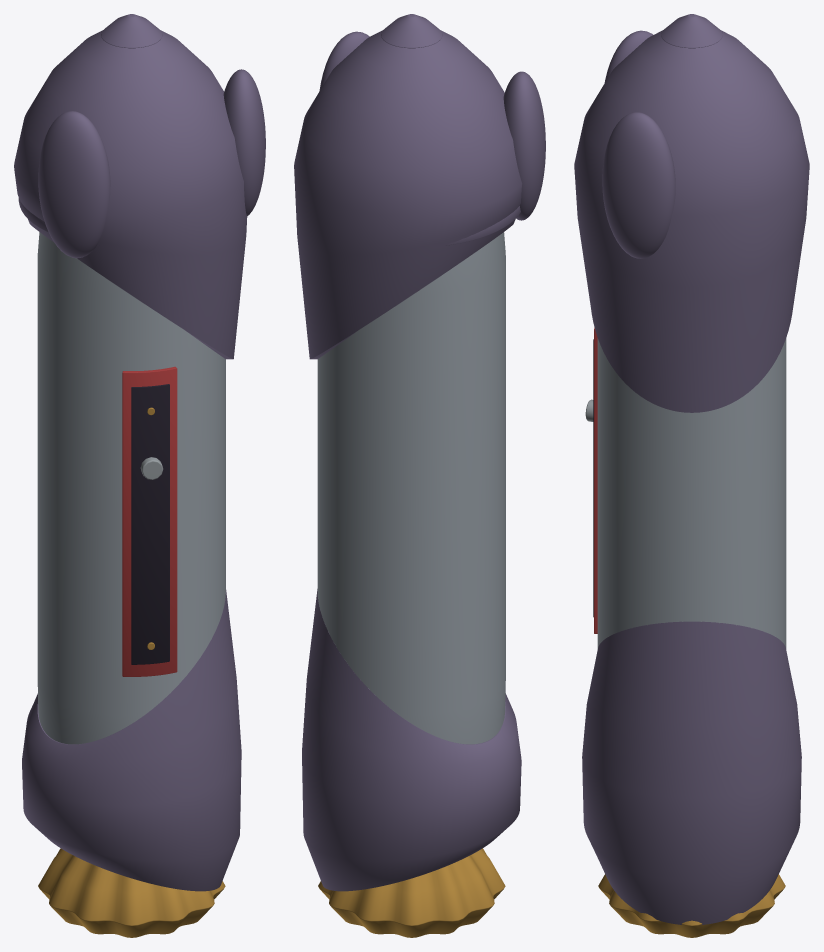
The picture shows the model from 3 angles, left to right: view 1: azimuth 30°, elevation 25°; view 2: azimuth 150°, elevation 25°; view 3: azimuth 270°, elevation 25°; orthographic projection.
Visible parts, largest first — view 1: Vortex silver pressure shaft, Vortex thick wavy upper casing, Vortex thick wavy lower casing, Vortex dark service inset, Vortex hollow gold propulsion bell, Vortex oval head side form, Vortex curved red service surround, Vortex oval head side form.001, Vortex rounded nose closure; view 2: Vortex silver pressure shaft, Vortex thick wavy upper casing, Vortex thick wavy lower casing, Vortex hollow gold propulsion bell, Vortex oval head side form, Vortex rounded nose closure, Vortex oval head side form.001; view 3: Vortex thick wavy upper casing, Vortex thick wavy lower casing, Vortex silver pressure shaft, Vortex oval head side form.001, Vortex hollow gold propulsion bell, Vortex rounded nose closure, Vortex curved red service surround, Vortex oval head side form.
Boxes of the visible parts, x1,y1,x2,y2 form: Vortex silver pressure shaft: [37, 232, 225, 744]; Vortex thick wavy upper casing: [14, 30, 247, 359]; Vortex thick wavy lower casing: [22, 590, 241, 891]; Vortex dark service inset: [131, 384, 169, 664]; Vortex hollow gold propulsion bell: [38, 848, 225, 937]; Vortex oval head side form: [38, 111, 110, 258]; Vortex curved red service surround: [122, 366, 177, 676]; Vortex oval head side form.001: [223, 69, 265, 216]; Vortex rounded nose closure: [101, 14, 162, 48]; Vortex silver pressure shaft: [317, 232, 505, 744]; Vortex thick wavy upper casing: [294, 30, 522, 359]; Vortex thick wavy lower casing: [302, 589, 521, 891]; Vortex hollow gold propulsion bell: [318, 848, 505, 937]; Vortex oval head side form: [503, 71, 545, 220]; Vortex rounded nose closure: [381, 14, 442, 48]; Vortex oval head side form.001: [319, 31, 369, 90]; Vortex thick wavy upper casing: [574, 30, 809, 412]; Vortex thick wavy lower casing: [582, 621, 801, 924]; Vortex silver pressure shaft: [597, 338, 786, 648]; Vortex oval head side form.001: [602, 112, 675, 258]; Vortex hollow gold propulsion bell: [598, 874, 785, 937]; Vortex rounded nose closure: [661, 14, 722, 48]; Vortex curved red service surround: [594, 327, 597, 633]; Vortex oval head side form: [604, 30, 653, 82].
Bounding box in the file's own units: 1.59 × 6.26 × 1.5.
